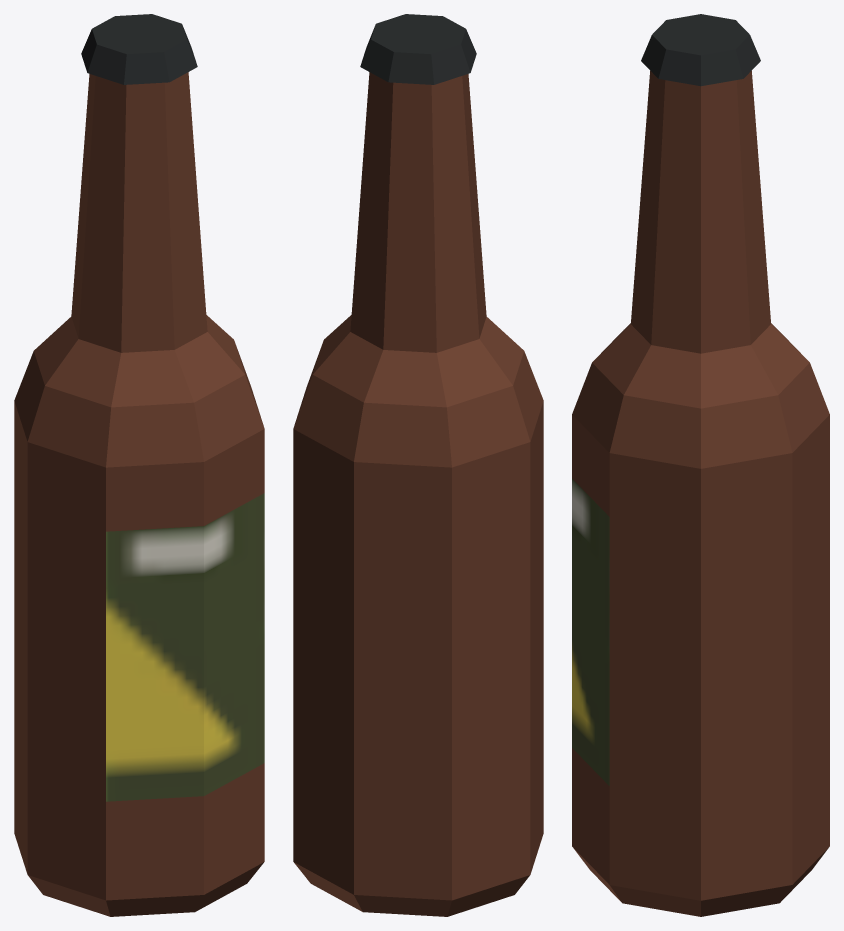
The model's file is SM_Prop_Bar_Bottle_01.obj.
3 views of the same model, side by side, from view 1: azimuth 30°, elevation 25°; view 2: azimuth 150°, elevation 25°; view 3: azimuth 270°, elevation 25° (orthographic).
Visible parts, largest first — view 1: SM_Prop_Bar_Bottle_01_0; view 2: SM_Prop_Bar_Bottle_01_0; view 3: SM_Prop_Bar_Bottle_01_0.
Part boxes in pixels (x1,y1,x2,y2): SM_Prop_Bar_Bottle_01_0: (14,14,264,916); SM_Prop_Bar_Bottle_01_0: (293,14,543,916); SM_Prop_Bar_Bottle_01_0: (572,14,829,916).
Bounding box in the file's own units: 0.0938 × 0.3354 × 0.0939.
1 material, 1 textured.
